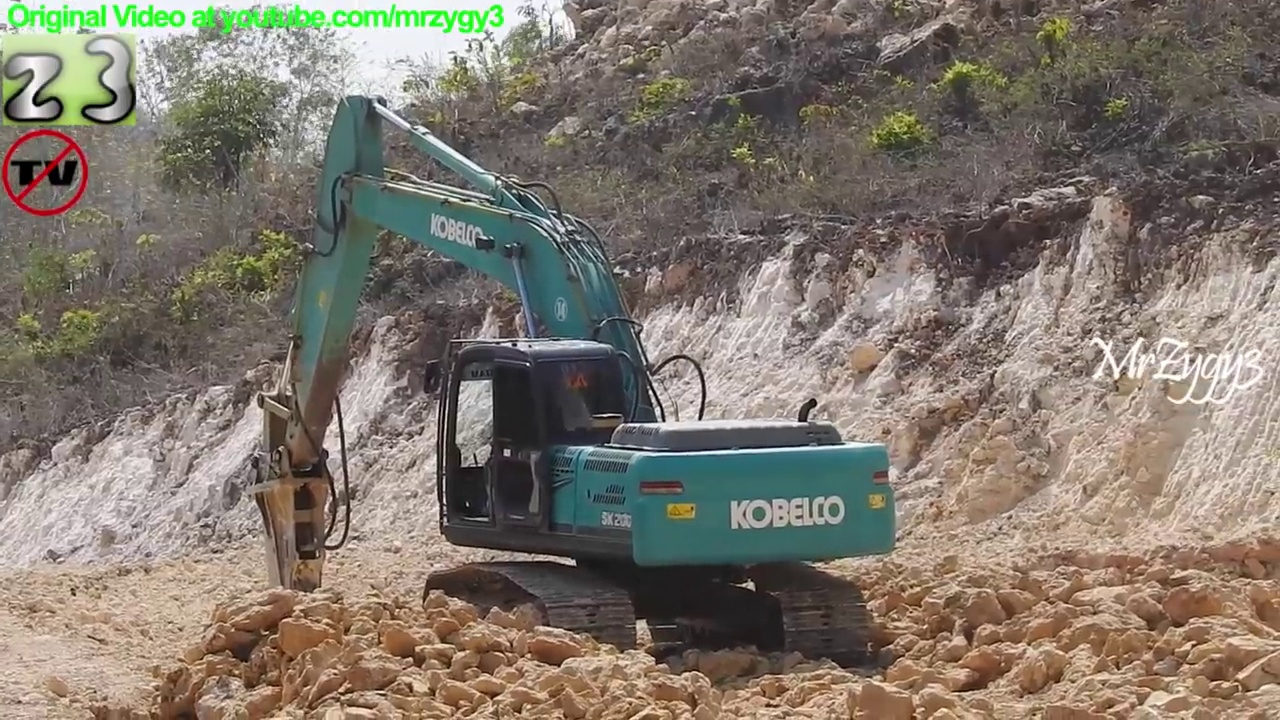excavator breaker: (240, 89, 907, 681)
